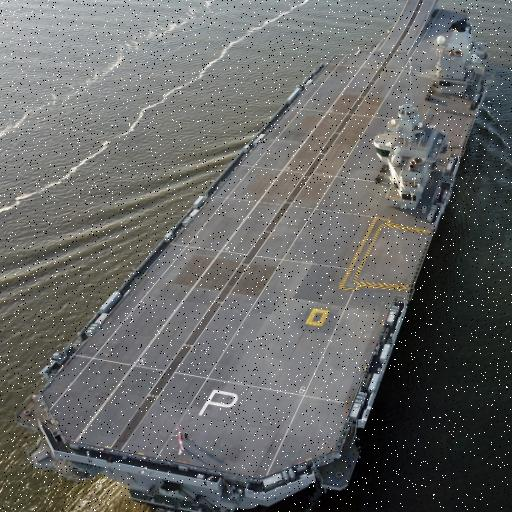Portanaves: (17, 1, 496, 512)
